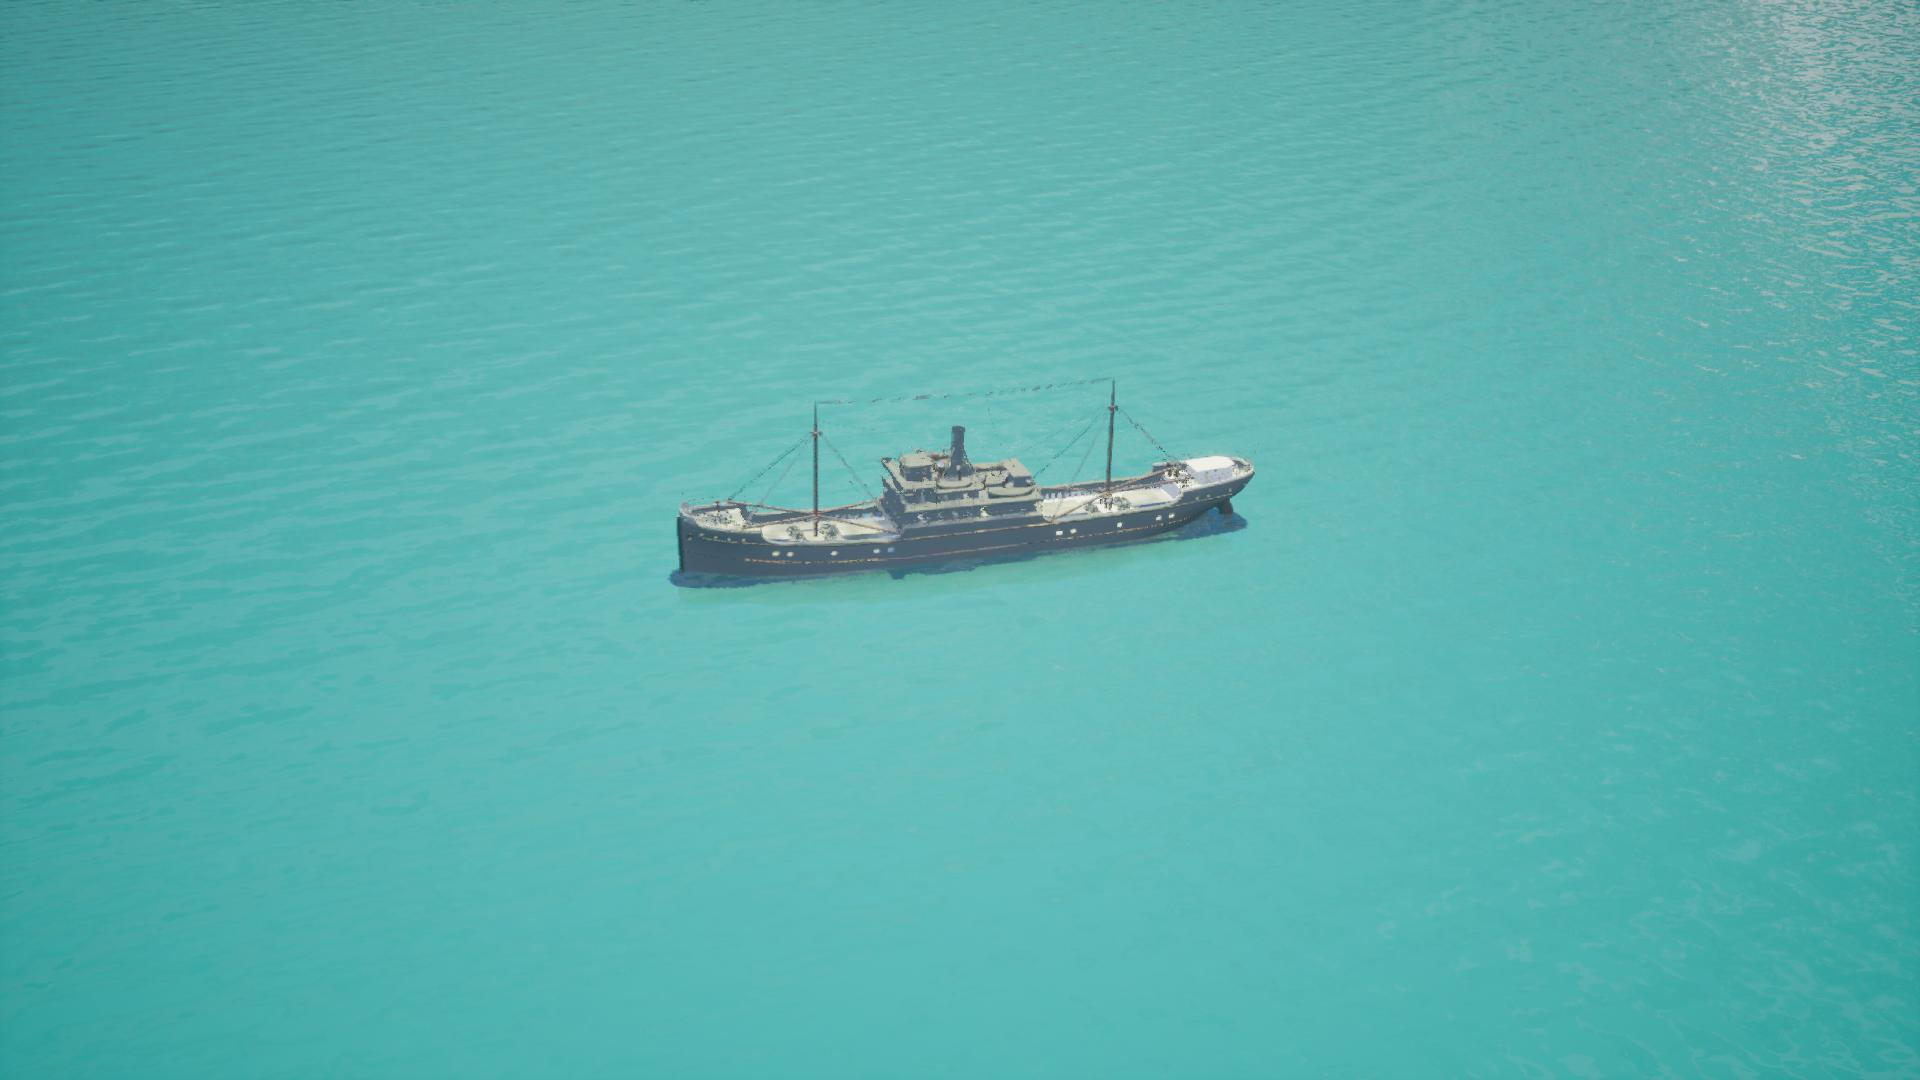Fishing Boat: (675, 380, 1254, 585)
